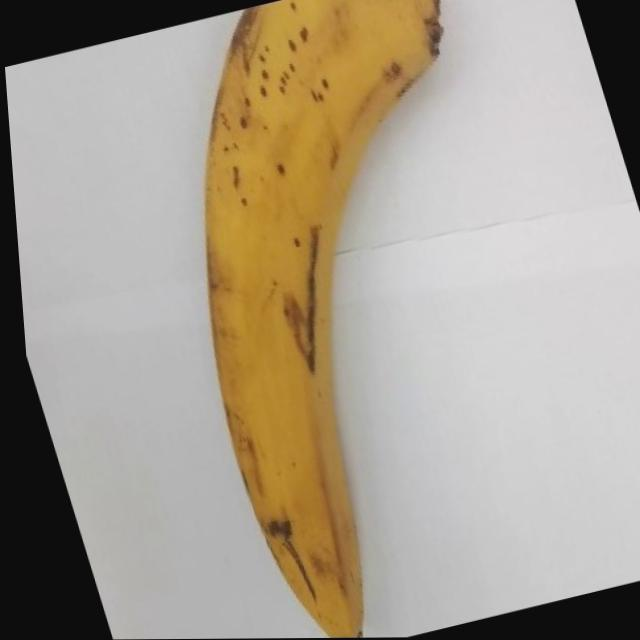Banana: (104, 0, 620, 639)
